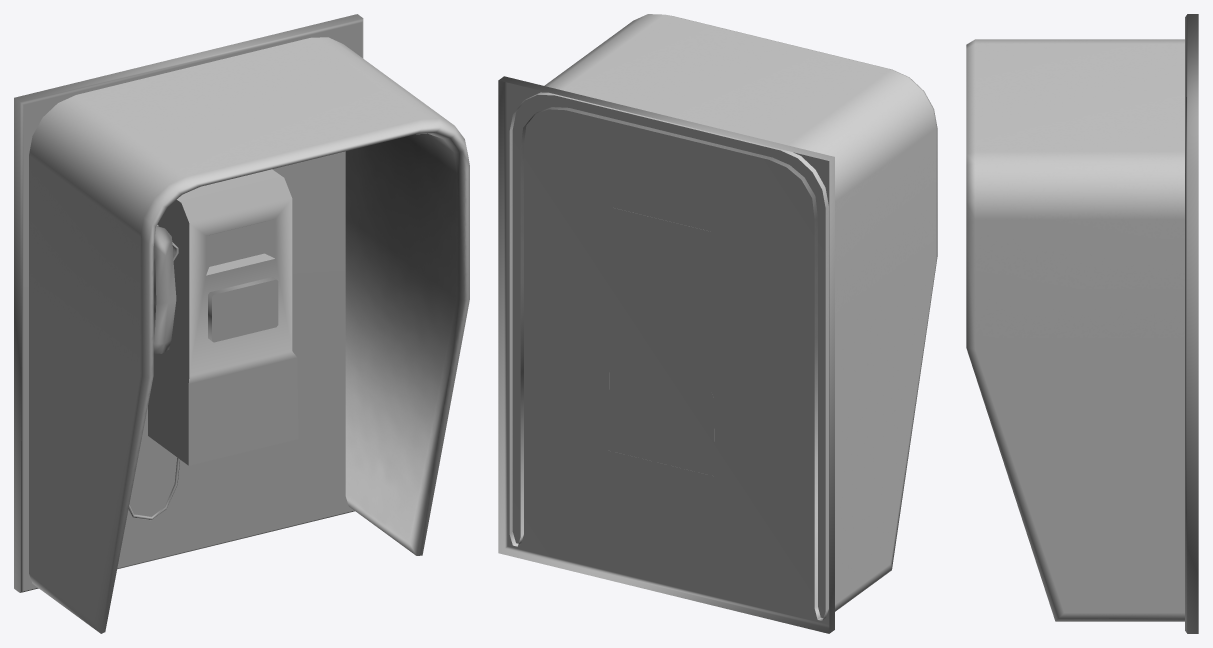
Rendered from Phone.fbx.
3 views of the same model, side by side, from view 1: azimuth 30°, elevation 25°; view 2: azimuth 150°, elevation 25°; view 3: azimuth 270°, elevation 25° (orthographic). The views are drawn at different scales.
Parts seen in each view (by area): view 1: phone; view 2: phone; view 3: phone.
Part boxes in pixels (bbox=[...]): phone: bbox=[14, 14, 469, 633]; phone: bbox=[498, 14, 937, 633]; phone: bbox=[966, 14, 1198, 633].
Bounding box in the file's own units: 1.46 × 2 × 0.909.
